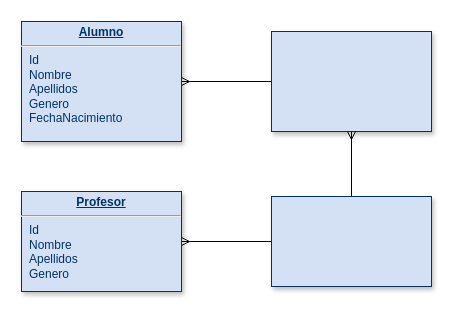
Image size: 455x316. Some labels were removed from this diagram. The centre of each missing label's shape, as x and y in pixels:
AlumnoGrado Id AlumnoId GradoId Seccion: pixel 352 82
Grado Id Nombre ProfesorId: pixel 352 243
